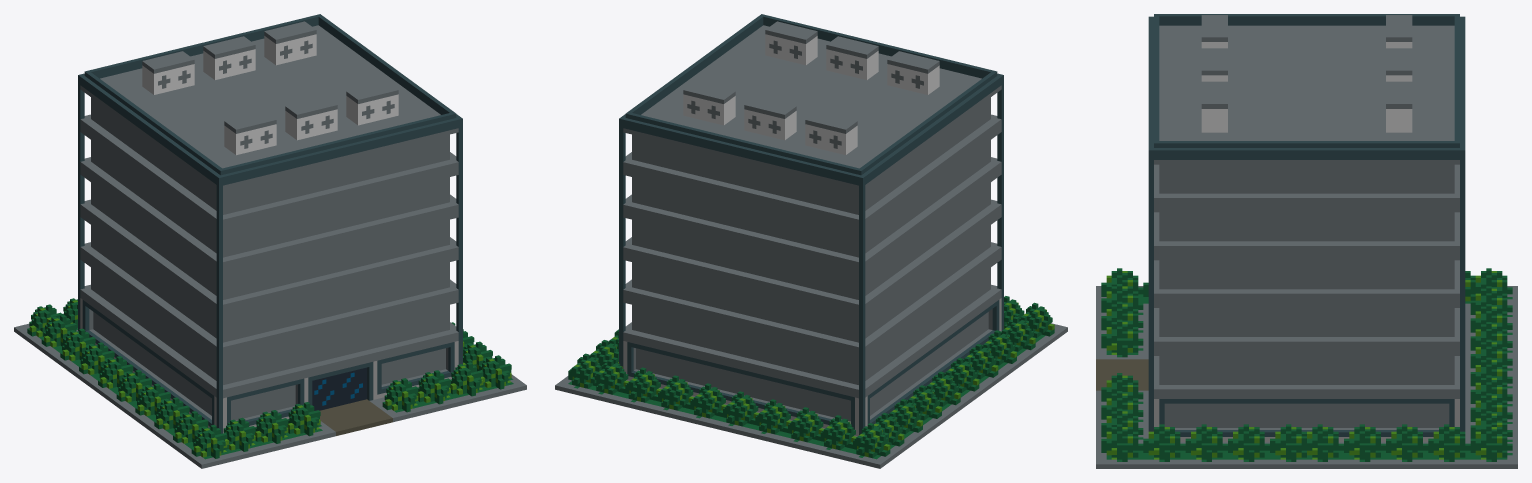
File: building_big_1_overtile.obj
3 renders of one model, left to right at view 1: azimuth 30°, elevation 25°; view 2: azimuth 150°, elevation 25°; view 3: azimuth 270°, elevation 25°, orthographic. The views are drawn at different scales.
Bounding box in the file's own units: 8 × 6.7 × 8.
Materials: 1 (1 with a texture image).
